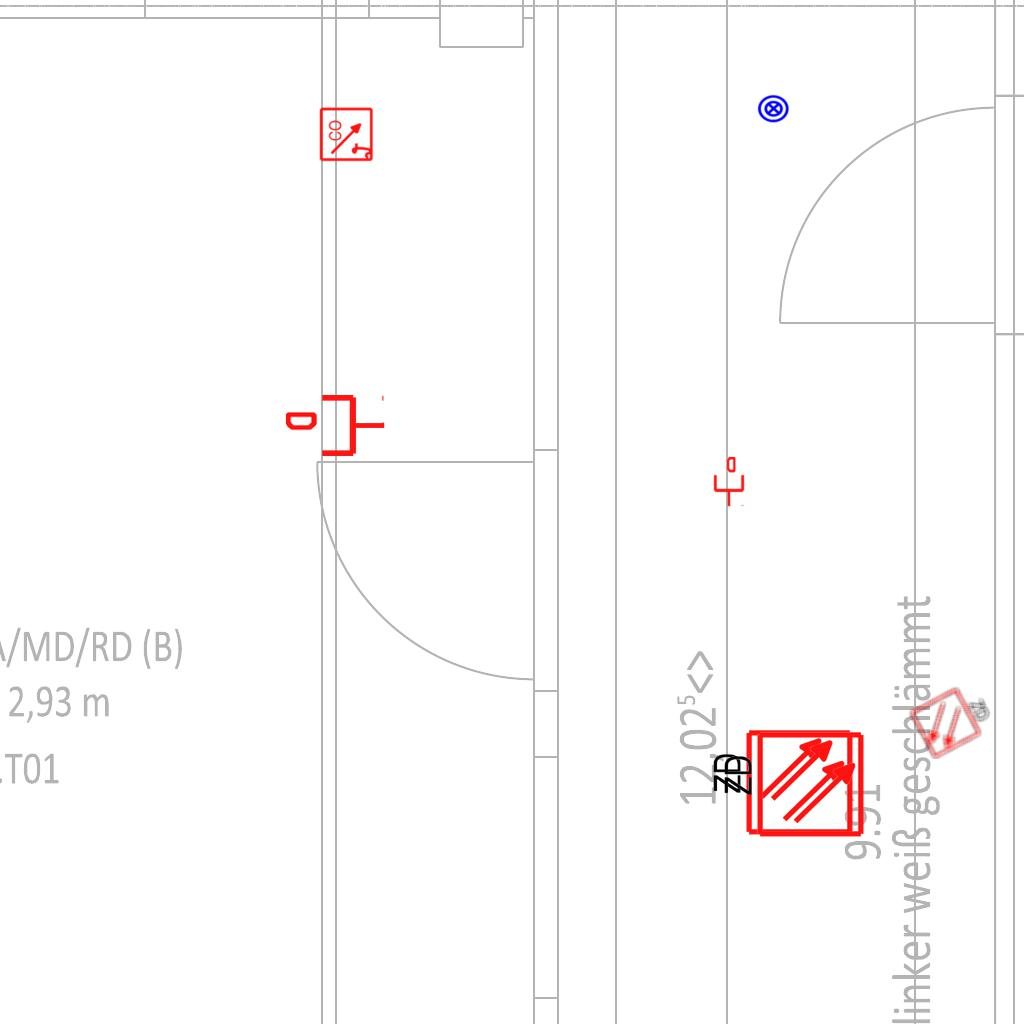Datenanschluss_einfach: (286, 391, 386, 460), (712, 457, 746, 507)
ROA_Rauchmelder_optisch_mit_Signalgeber_(Sockelsirene): (319, 106, 375, 162)
Taster_beleuchtet: (757, 92, 790, 125)
ZD_Melder_in_Zwischendecke_mit_Revisionsoeffnung_mind_40_x_40_cm: (706, 727, 855, 841), (717, 729, 866, 843), (907, 675, 1000, 761)
